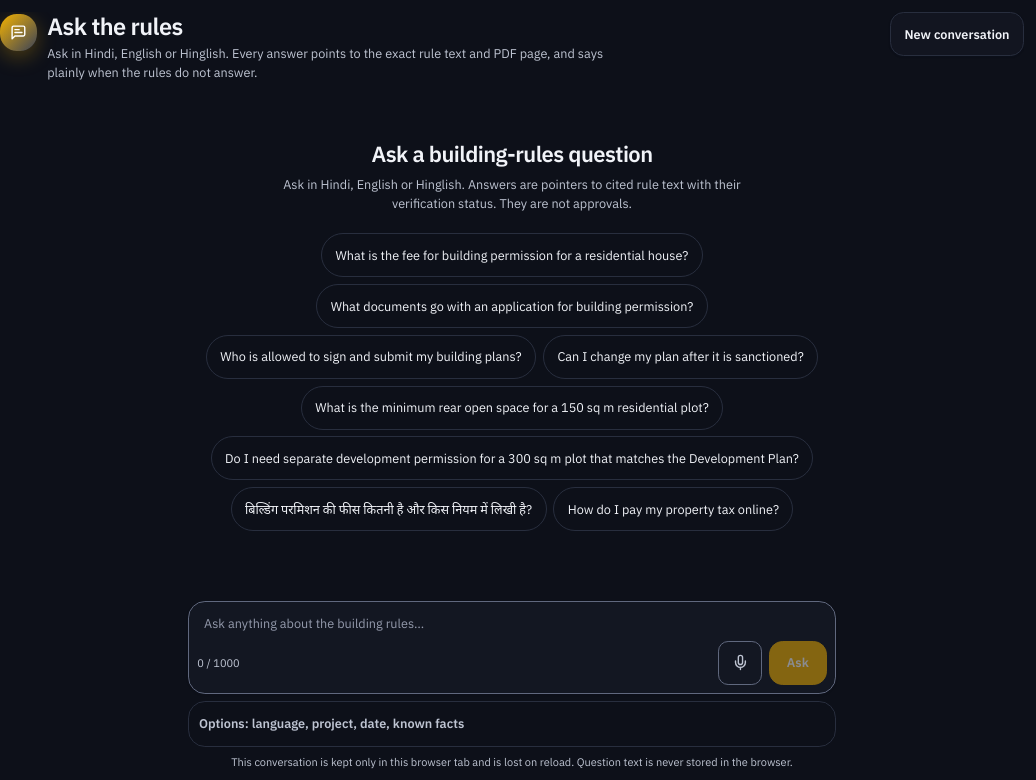
Test: Ask › never writes question text to browser storage
The width and height of the screenshot is (1036, 780).
In the text box named "Your question": [512, 624] box [194, 607, 830, 641], type "secret question text"
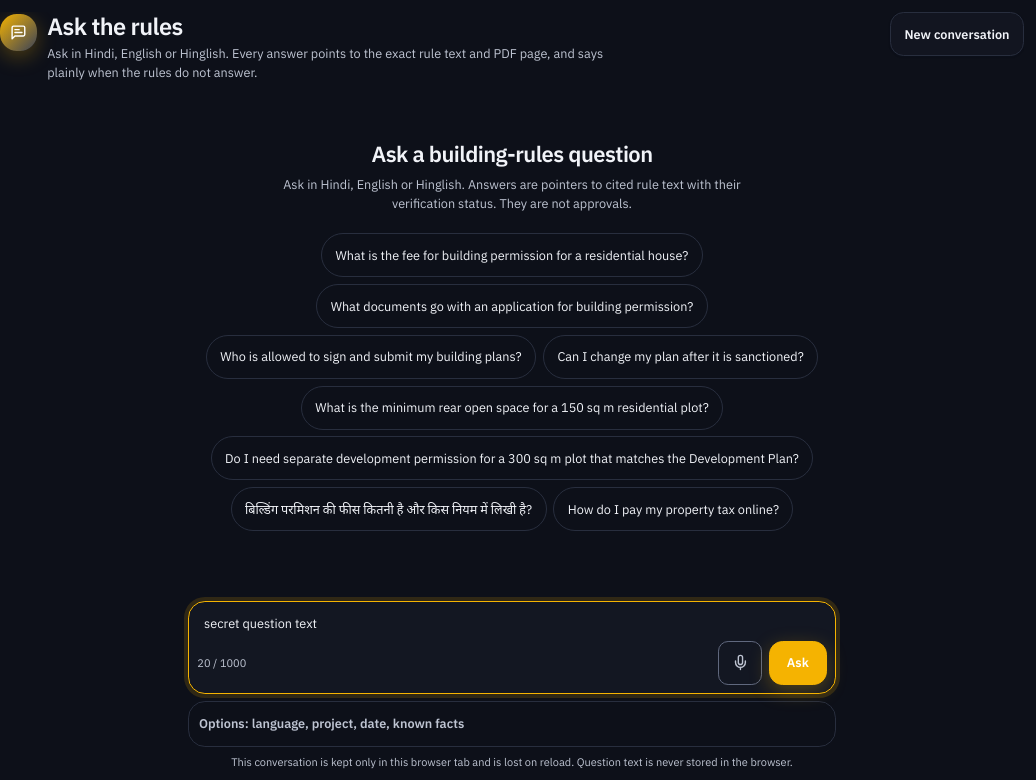
Click the button "Ask": [798, 663] box [769, 641, 827, 685]
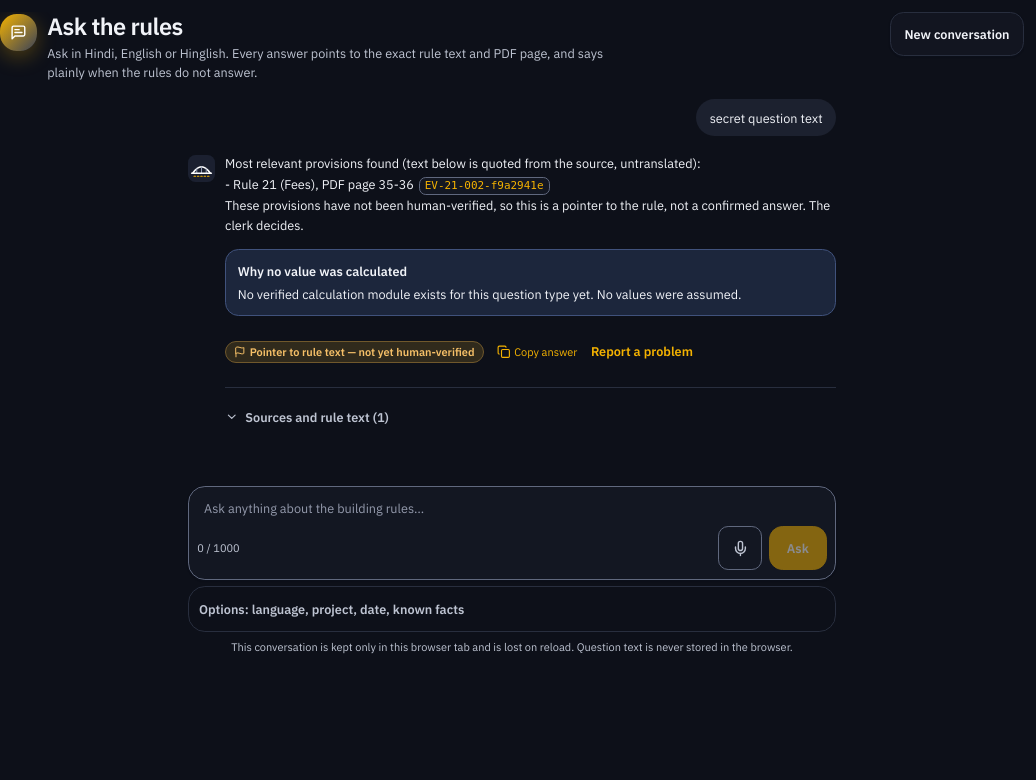
expect the text "Pointer to rule text — not yet human-verified" is shown: met, box [250, 344, 474, 360]
